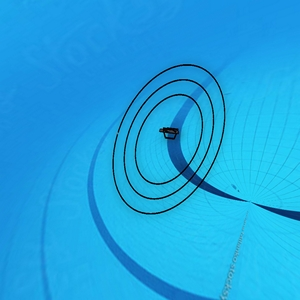circle: (109, 60, 224, 214)
submarine: (159, 123, 182, 139)
